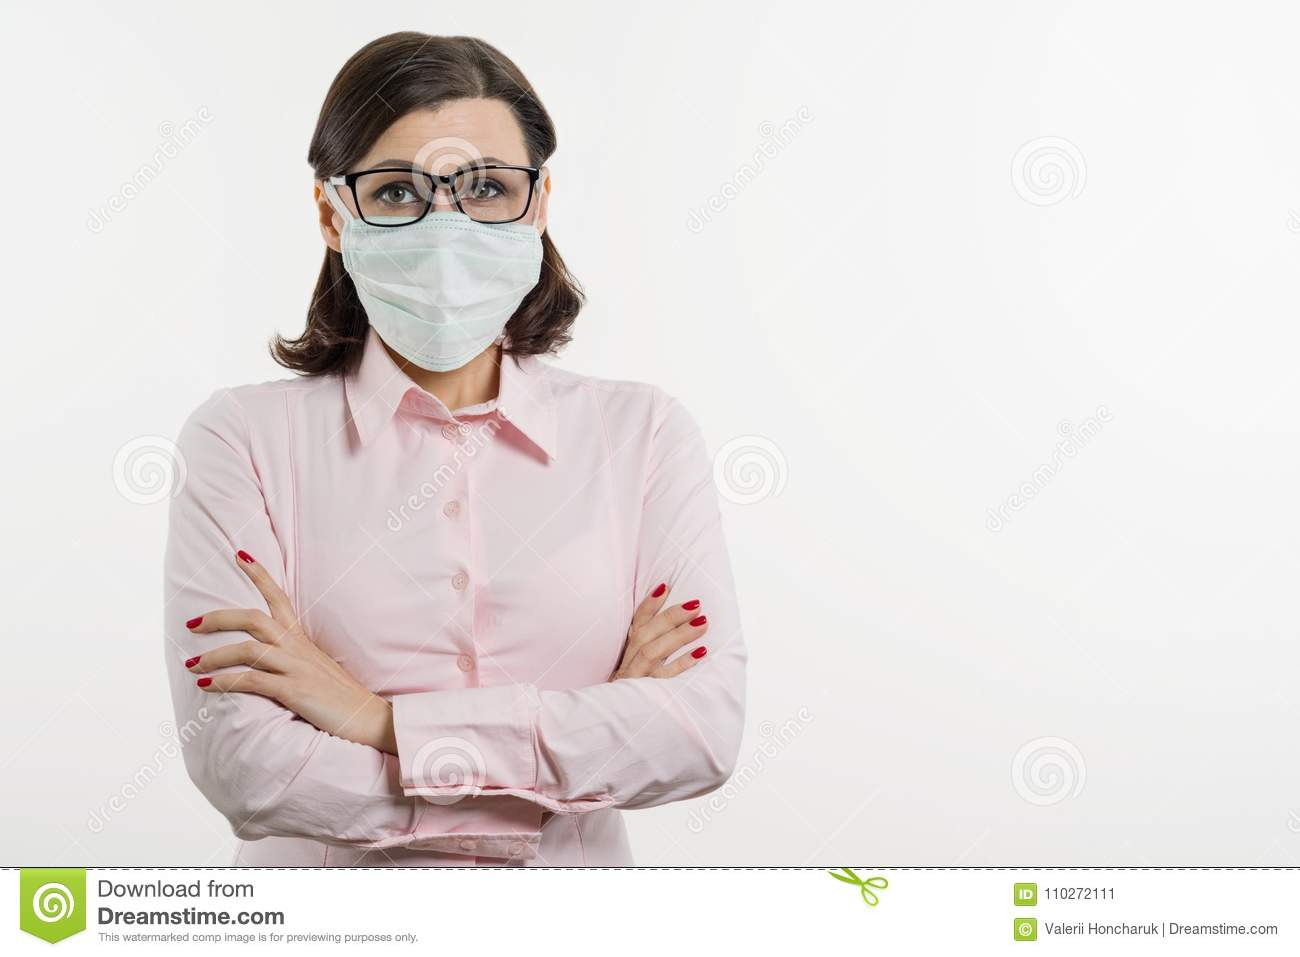mask: (337, 214, 544, 376)
